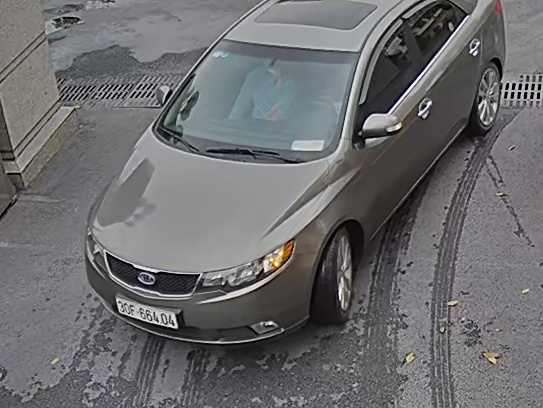vehicle plate: (115, 292, 176, 329)
